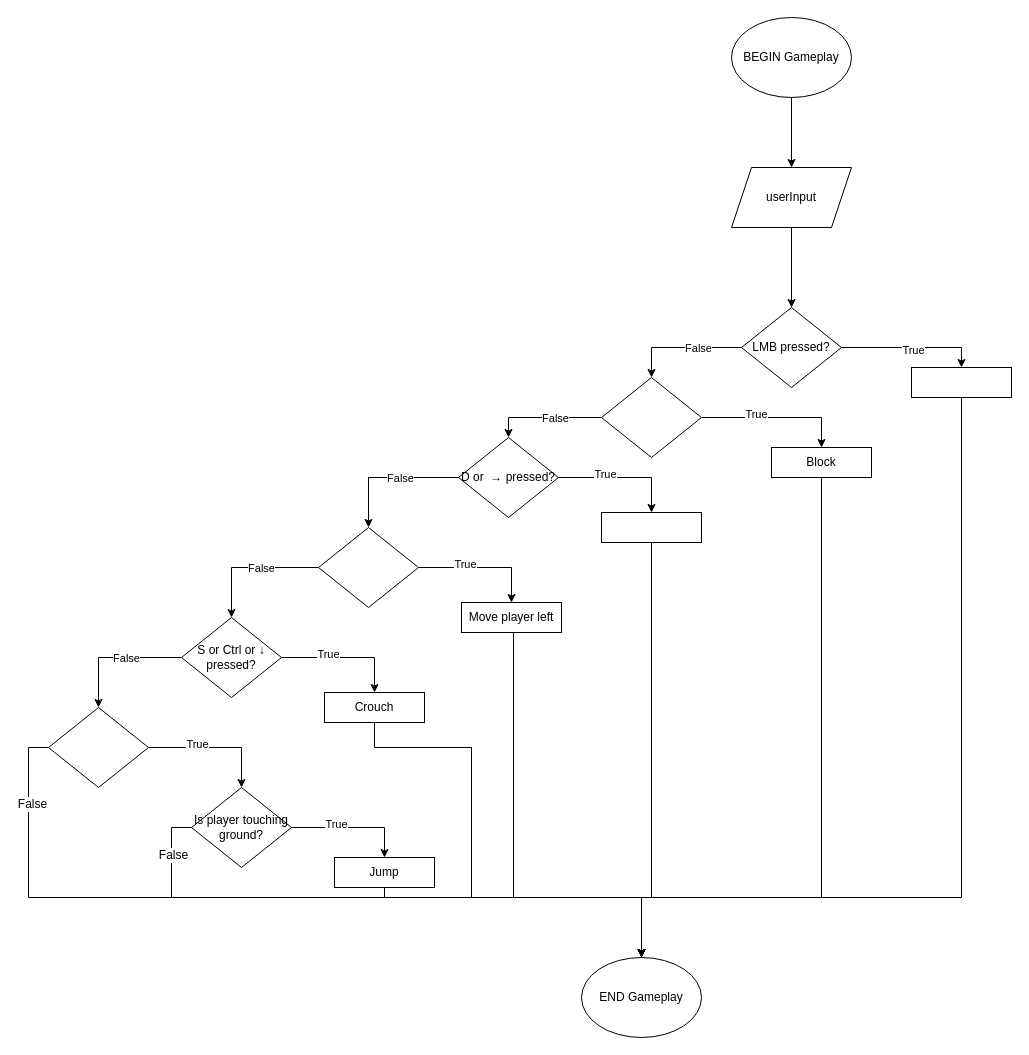
Image size: 1029x1055. Some labels were removed from this diagram. Here are the shapes that lost their labels. From the top down, the centre of each, then its label:
At point (961, 382): "Attack".
At point (651, 417): "RMB pressed?".
At point (651, 527): "Move player right".
At point (368, 567): "A or ← pressed?".
At point (98, 747): "W or Spacebar or ↑ pressed?".
